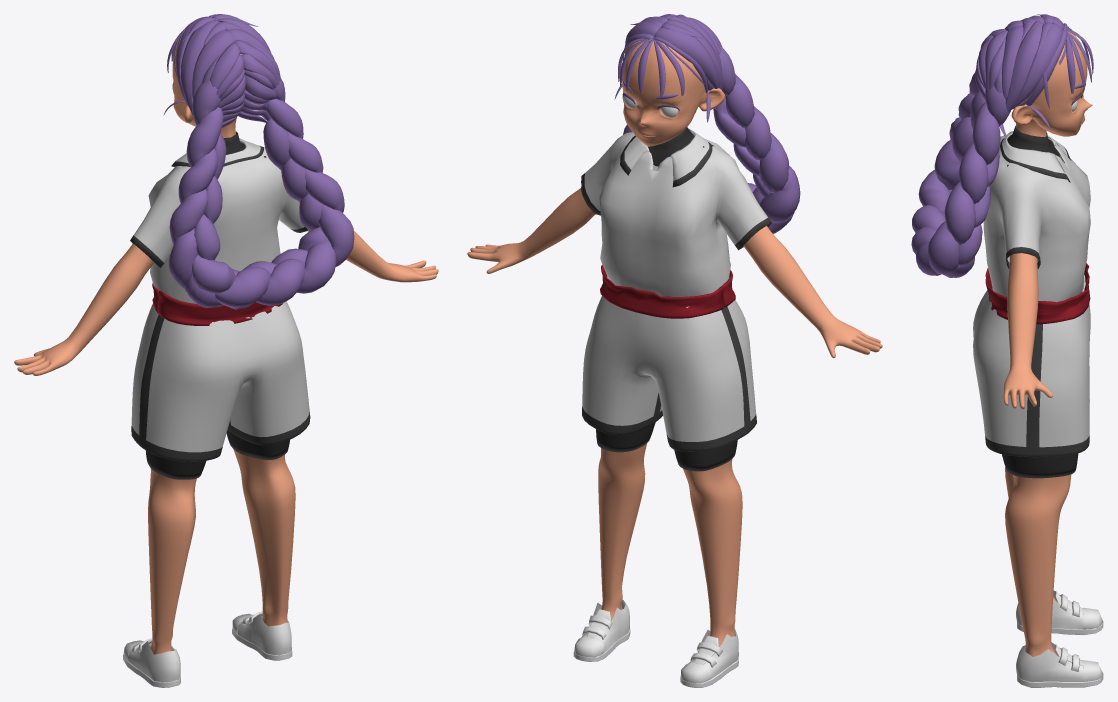
File: zhong.fbx
3 renders of one model, left to right at view 1: azimuth 30°, elevation 25°; view 2: azimuth 150°, elevation 25°; view 3: azimuth 270°, elevation 25°, orthographic. The views are drawn at different scales.
Parts seen in each view (by area): view 1: Cube.002, loophair, body, Cube.001, hair, 平面, shoe-left, shoe-left.001, body.001, head; view 2: Cube.001, Cube.002, body, loophair, head, hair, 平面, shoe-left.001, shoe-left, body.001, cloth_up; view 3: Cube.002, Cube.001, body, loophair, hair, head, shoe-left, 平面, shoe-left.001, body.001, cloth_up.
Part boxes in pixels (x1,y1,x2,y2): Cube.002: [131, 301, 310, 461]; loophair: [168, 77, 354, 309]; body: [14, 116, 438, 654]; Cube.001: [130, 138, 307, 303]; hair: [163, 14, 280, 127]; 平面: [152, 283, 282, 325]; shoe-left: [232, 611, 292, 660]; shoe-left.001: [123, 638, 180, 687]; body.001: [145, 429, 290, 479]; head: [172, 39, 260, 126]; Cube.001: [581, 128, 771, 296]; Cube.002: [582, 296, 756, 451]; body: [467, 188, 882, 646]; loophair: [623, 46, 800, 233]; head: [622, 41, 725, 146]; hair: [614, 14, 722, 122]; 平面: [600, 265, 735, 318]; shoe-left.001: [680, 629, 738, 687]; shoe-left: [573, 599, 630, 661]; body.001: [596, 422, 737, 471]; cloth_up: [647, 127, 713, 166]; Cube.002: [973, 275, 1090, 457]; Cube.001: [983, 131, 1090, 302]; body: [1003, 109, 1071, 656]; loophair: [911, 73, 1010, 277]; hair: [974, 14, 1093, 137]; head: [1011, 31, 1092, 136]; shoe-left: [1016, 642, 1103, 687]; 平面: [985, 263, 1090, 324]; shoe-left.001: [1016, 590, 1103, 634]; body.001: [1002, 453, 1078, 478]; cloth_up: [1007, 126, 1059, 166].
Bounding box in the file's own units: 390 × 576 × 158.
